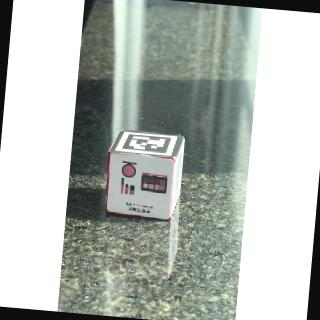Expired_Cosmetic: (105, 153, 181, 221)
